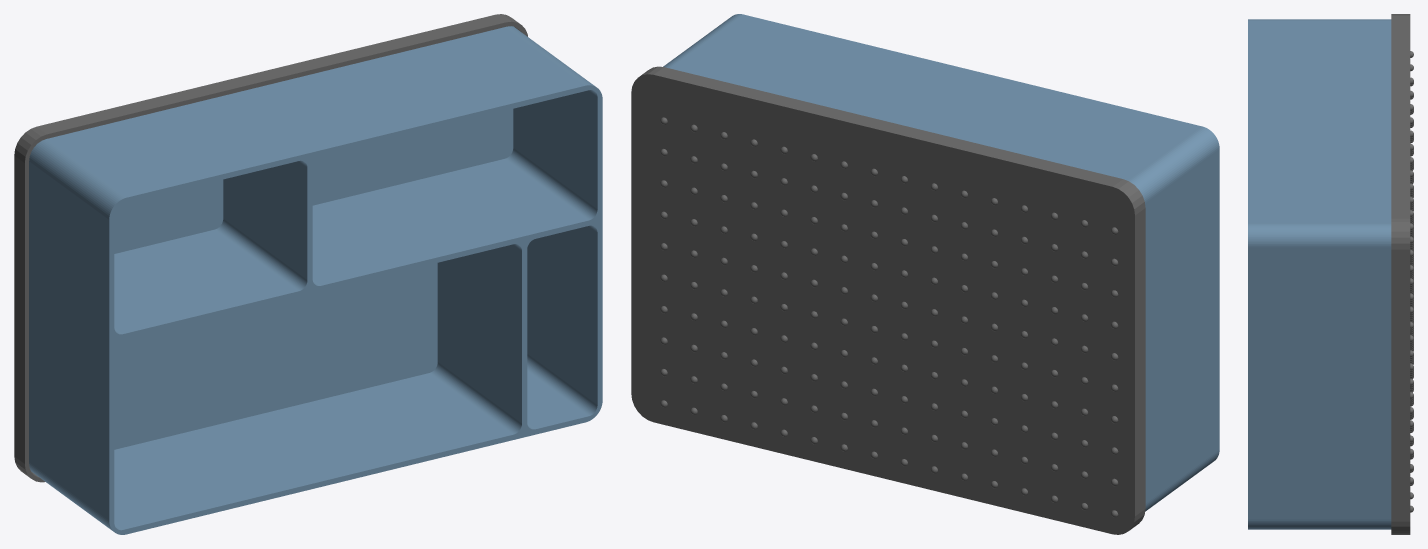
File: organizador-consola.glb
3 renders of one model, left to right at view 1: azimuth 30°, elevation 25°; view 2: azimuth 150°, elevation 25°; view 3: azimuth 270°, elevation 25°, orthographic. The views are drawn at different scales.
Parts seen in each view (by area): view 1: 1-Cuerpo PETG, 2-Base TPU; view 2: 2-Base TPU, 1-Cuerpo PETG; view 3: 1-Cuerpo PETG, 2-Base TPU.
Part boxes in pixels (x1,y1,x2,y2): 1-Cuerpo PETG: (29,26,602,534); 2-Base TPU: (14,14,527,482); 2-Base TPU: (631,66,1145,534); 1-Cuerpo PETG: (663,14,1219,511); 1-Cuerpo PETG: (1248,19,1391,529); 2-Base TPU: (1391,14,1413,534).
Bounding box in the file's own units: 0.2348 × 0.1548 × 0.0741.
